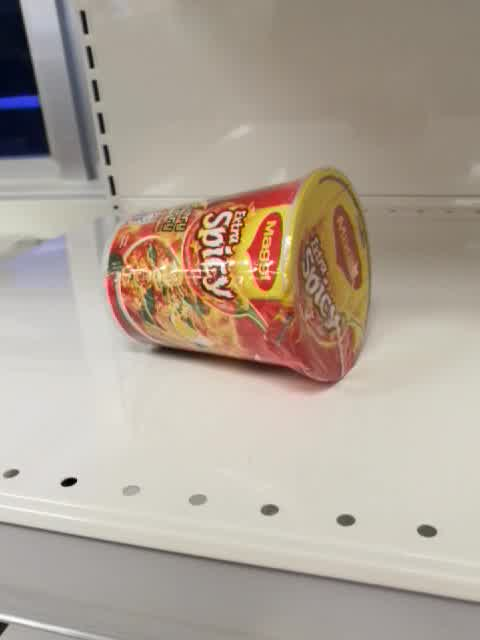maggi: (101, 167, 374, 385)
